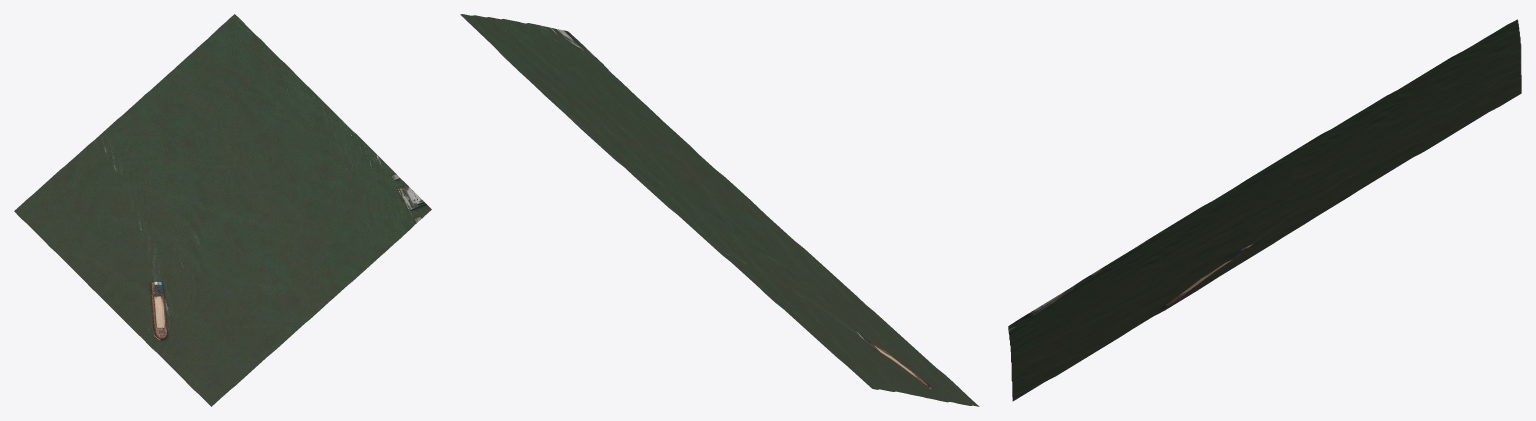
The picture shows the model from 3 angles, left to right: view 1: azimuth 30°, elevation 25°; view 2: azimuth 150°, elevation 25°; view 3: azimuth 270°, elevation 25°; orthographic projection. The views are drawn at different scales.
Bounding box in the file's own units: 292 × 254 × 224.
1 material, 1 textured.
